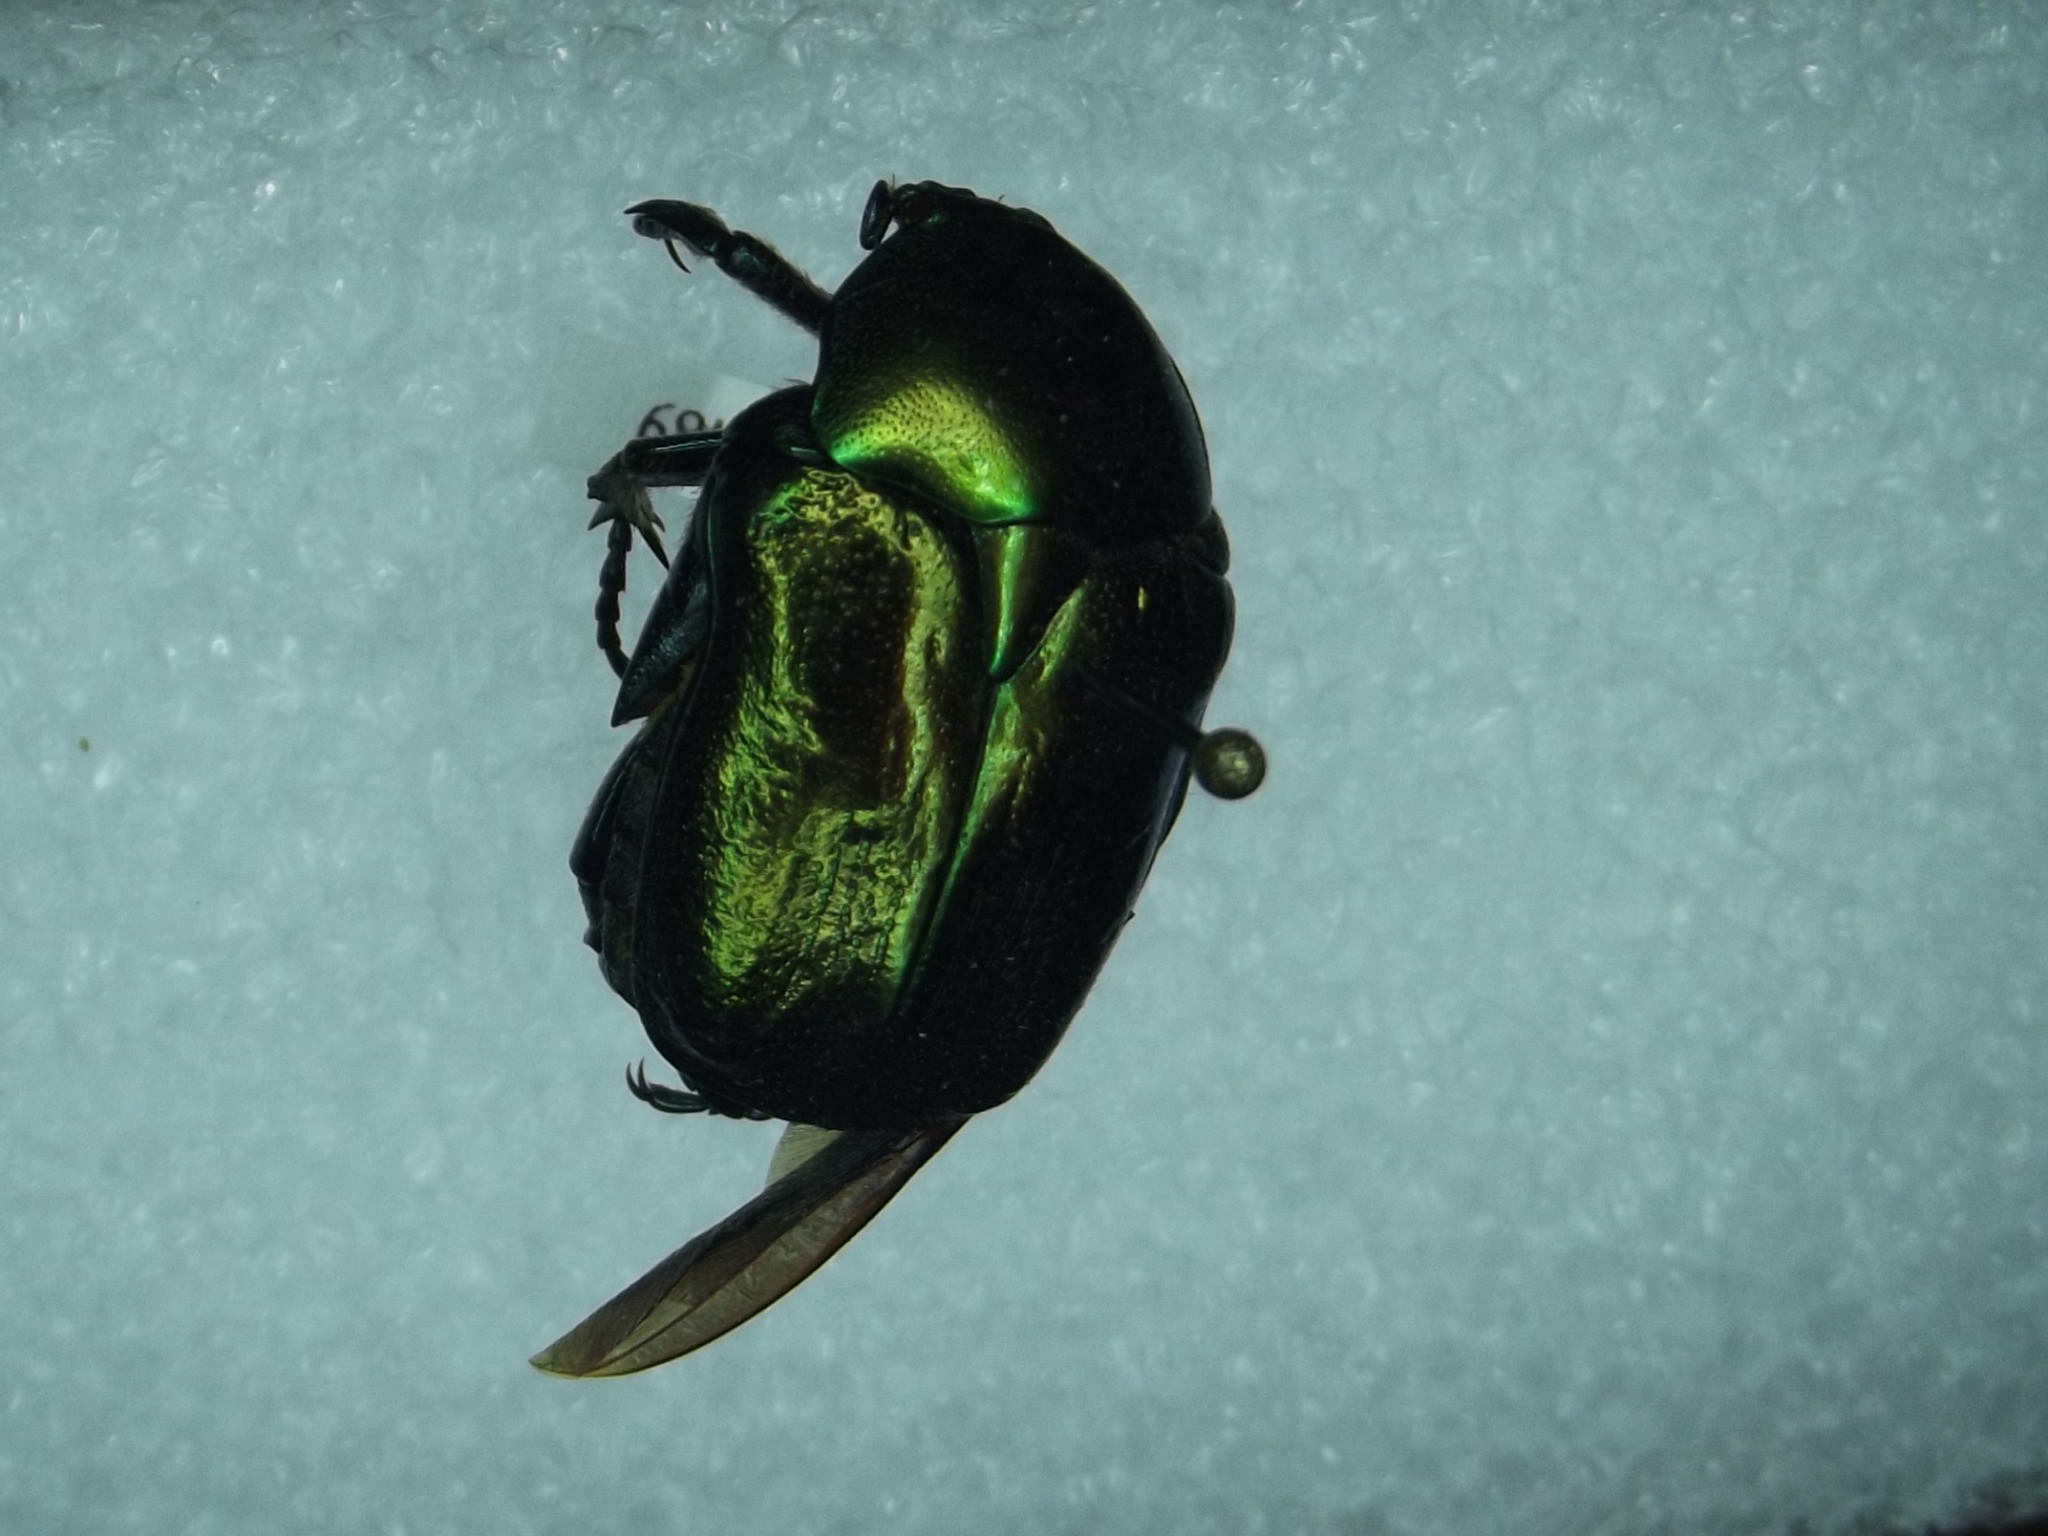Protaetia_angustata_angustata: (527, 144, 1243, 1410)
